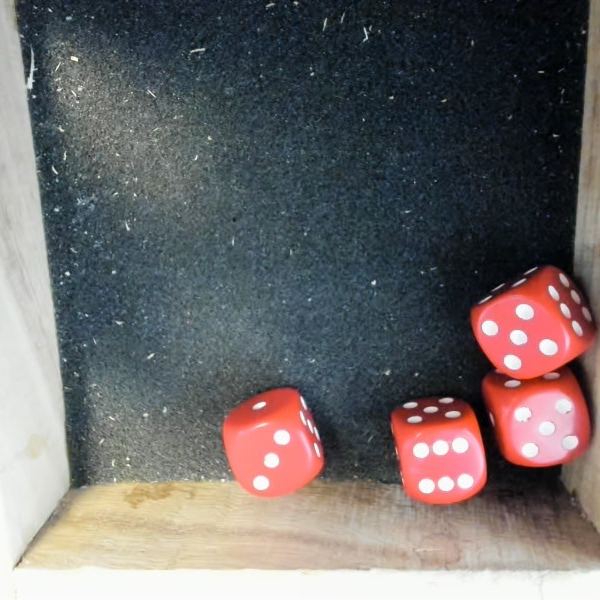red_die_invalid: (458, 251, 600, 395)
red_die_pip3: (216, 384, 335, 511)
red_die_pip5: (480, 361, 598, 477)
red_die_pip6: (383, 387, 492, 513), (385, 447, 395, 450)
